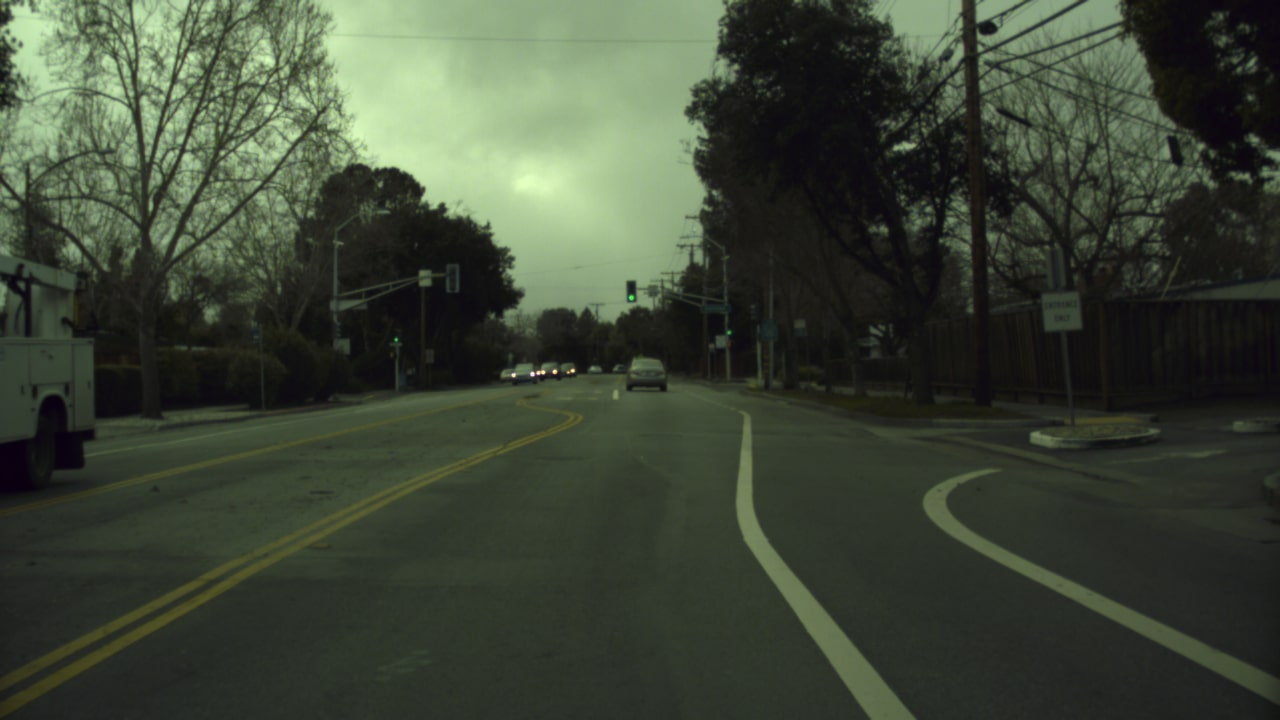signal: (625, 280, 638, 305), (723, 326, 736, 340), (390, 332, 401, 347)
